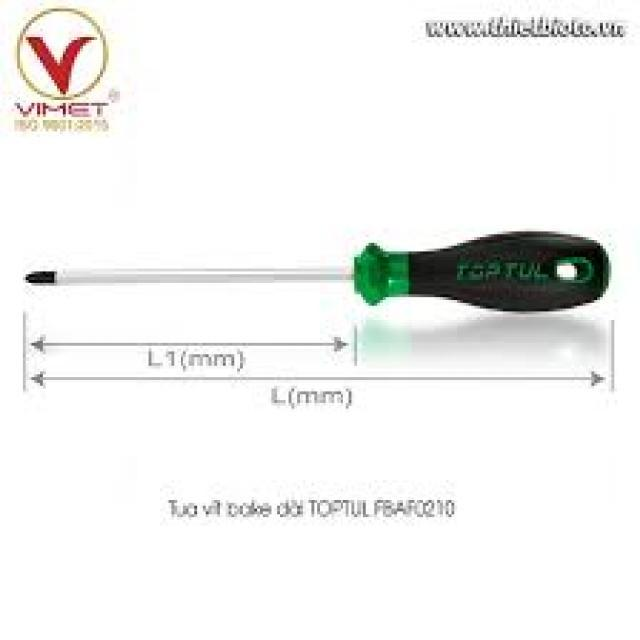screwdriver: (21, 224, 616, 316)
